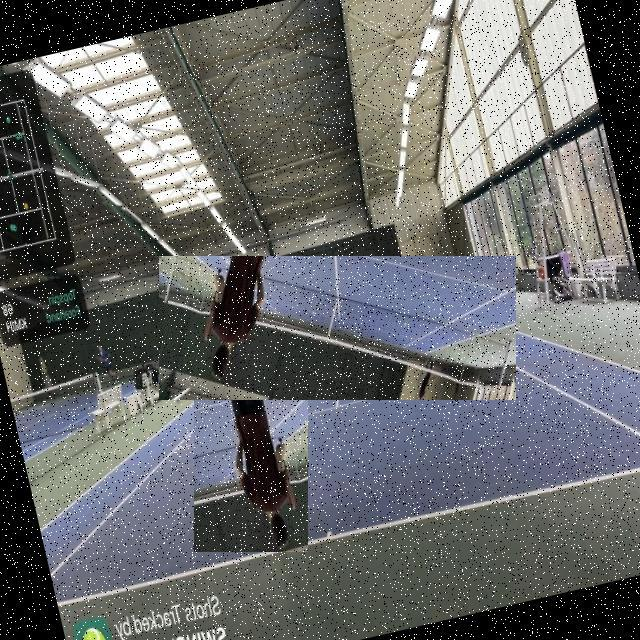court: (9, 253, 640, 606)
net: (160, 256, 518, 400)
player: (194, 273, 308, 552)
